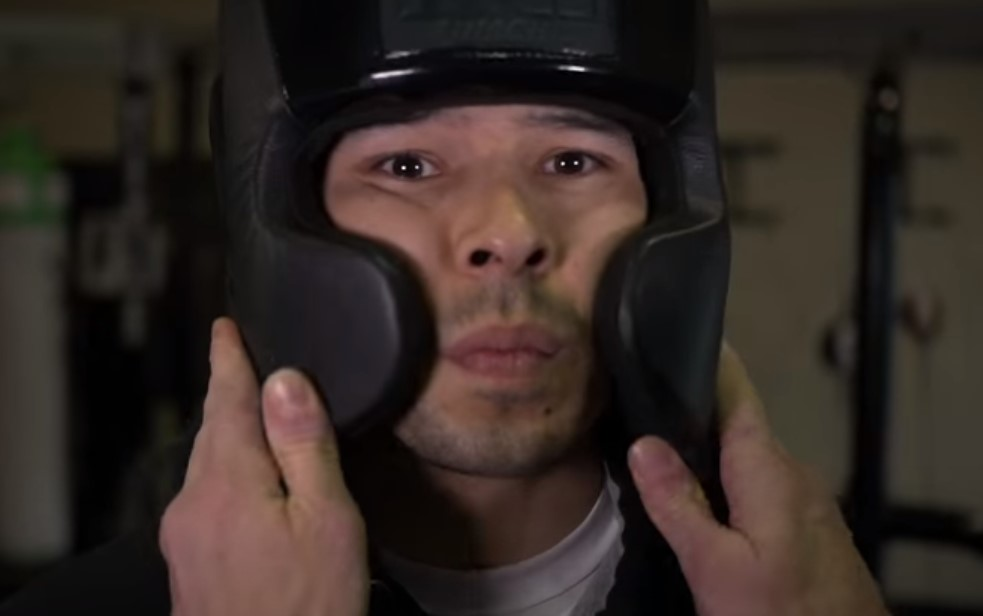face_no_mask: (300, 51, 665, 488)
